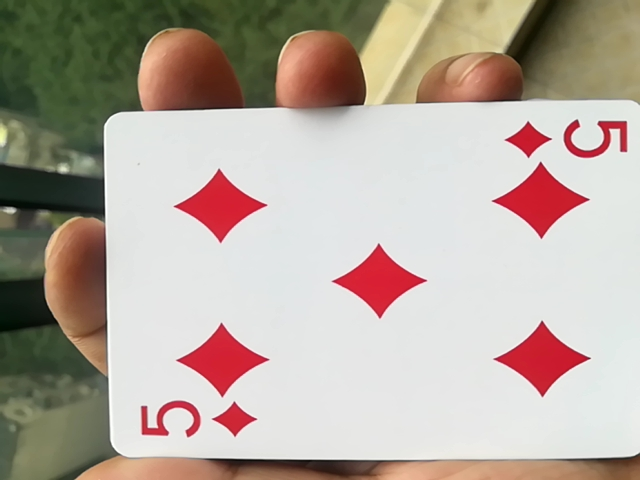fk 5: (86, 97, 636, 472)
